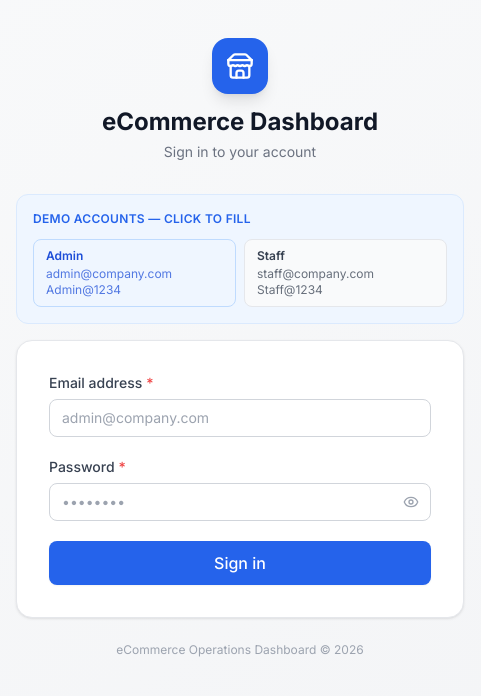
Test: Auth — Login flow › shows validation errors for empty submission
This screenshot has width=481, height=696.
Click the button "Sign in".
click(240, 563)  # box x1=49 y1=541 x2=431 y2=585
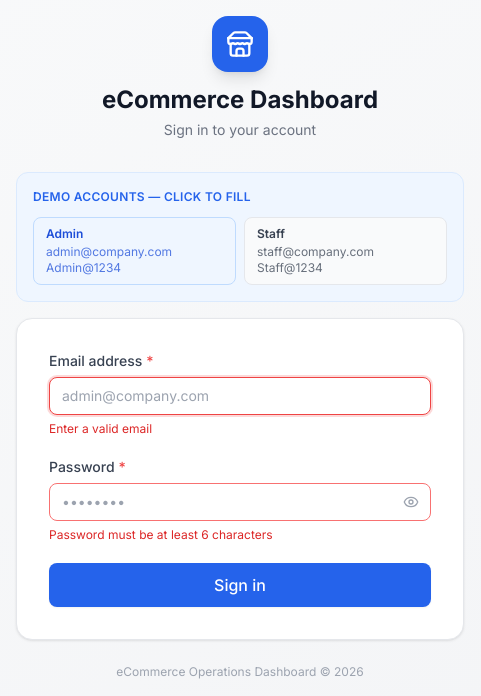
Now the text "Enter a valid email" is shown, box x1=49 y1=421 x2=152 y2=436
